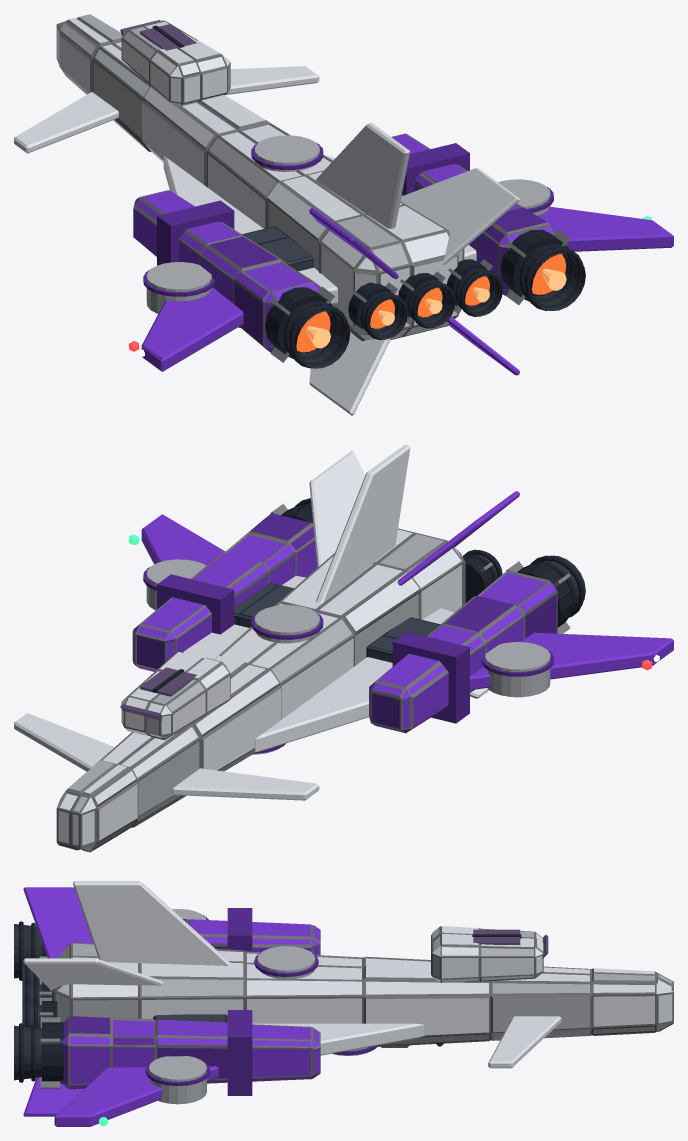
File: tempest.glb
The picture shows the model from 3 angles, top to bottom: view 1: azimuth 30°, elevation 25°; view 2: azimuth 150°, elevation 25°; view 3: azimuth 270°, elevation 25°; orthographic projection. The views are drawn at different scales.
Parts seen in each view (by area): view 1: tempest_mesh; view 2: tempest_mesh; view 3: tempest_mesh.
Part boxes in pixels (x1,y1,x2,y2): tempest_mesh: (14,14,673,415); tempest_mesh: (14,444,673,852); tempest_mesh: (14,881,673,1126).
Bounding box in the file's own units: 11.2 × 4.6 × 13.84.
